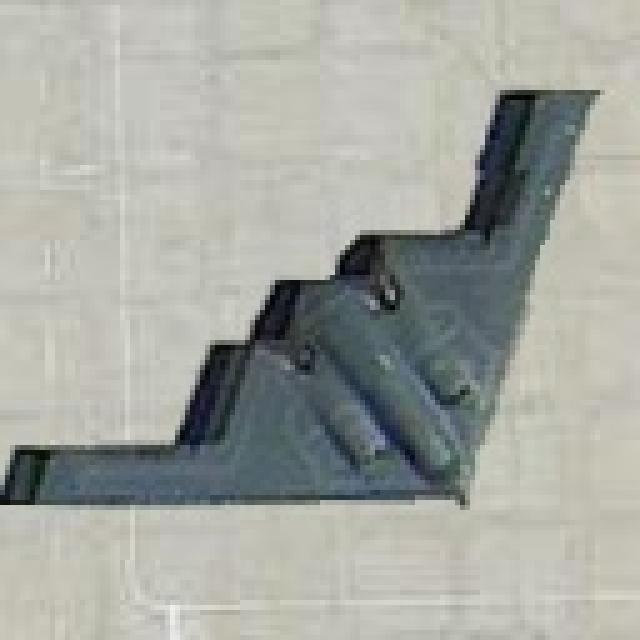B-2_TopDown: (0, 80, 600, 510)
